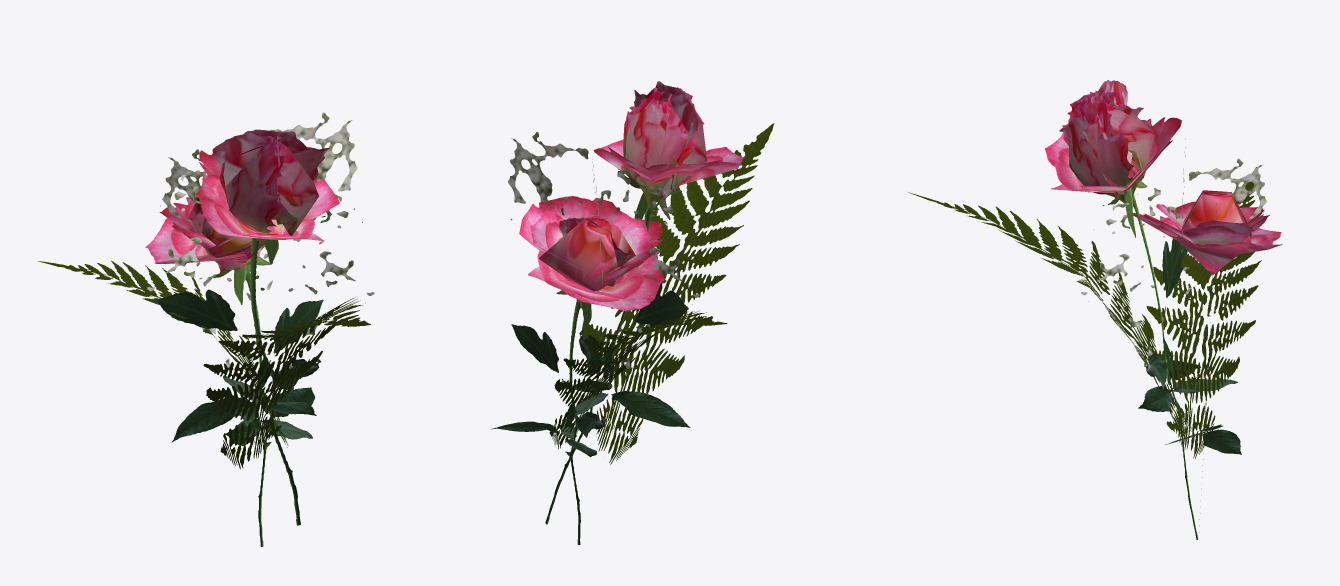
Rendered from Roses_Twocount.fbx.
3 renders of one model, left to right at view 1: azimuth 30°, elevation 25°; view 2: azimuth 150°, elevation 25°; view 3: azimuth 270°, elevation 25°, orthographic. The views are drawn at different scales.
Parts seen in each view (by area): view 1: Rose1.001; view 2: Rose1.001; view 3: Rose1.001.
Boxes of the visible parts, bbox=[...] form: Rose1.001: bbox=[38, 112, 374, 546]; Rose1.001: bbox=[491, 81, 774, 544]; Rose1.001: bbox=[908, 80, 1282, 539].
Size of the model in its own units: 21.68 by 31.65 by 26.28.
